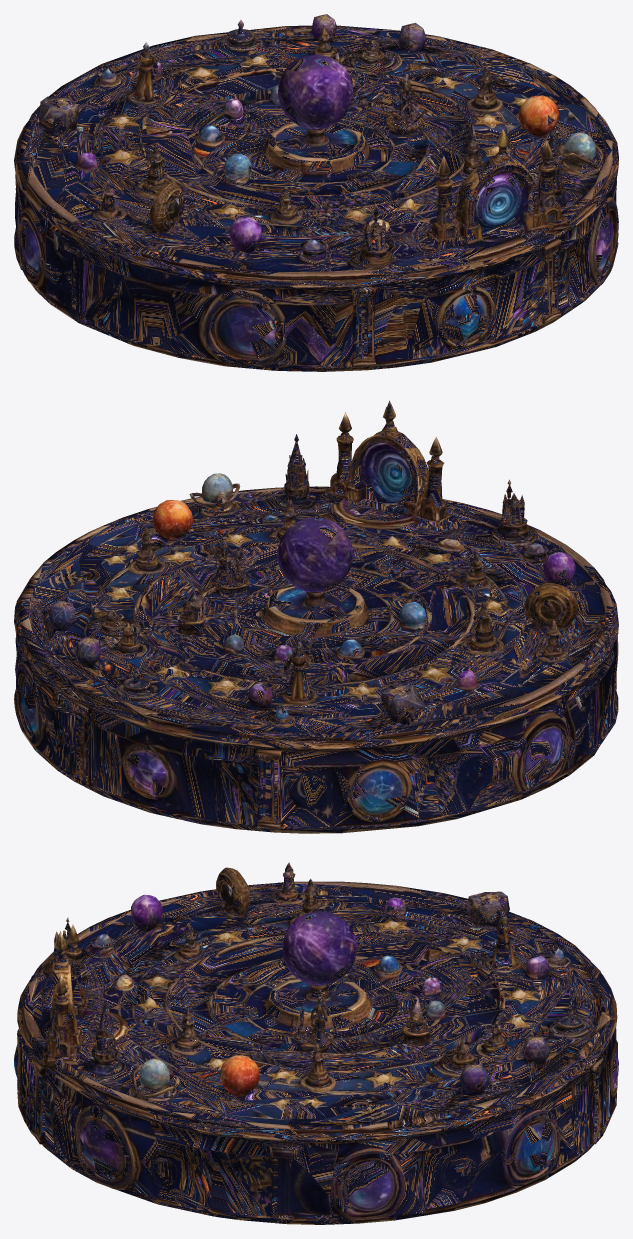
Rendered from Celestial_Orrery_of_D.glb.
3 renders of one model, top to bottom at view 1: azimuth 30°, elevation 25°; view 2: azimuth 150°, elevation 25°; view 3: azimuth 270°, elevation 25°, orthographic.
Parts seen in each view (by area): view 1: Celestial_Orrery_of_D; view 2: Celestial_Orrery_of_D; view 3: Celestial_Orrery_of_D.
Part boxes in pixels (x1,y1,x2,y2): Celestial_Orrery_of_D: (14, 14, 618, 371); Celestial_Orrery_of_D: (14, 400, 618, 833); Celestial_Orrery_of_D: (14, 862, 618, 1224).
Size of the model in its own units: 1.9 by 0.6781 by 1.89.
1 material, 1 textured.
